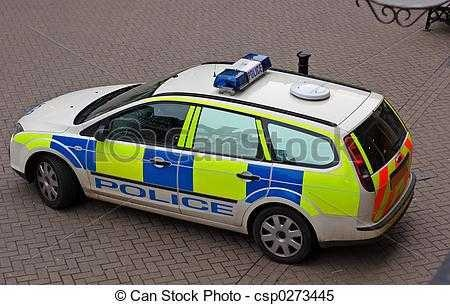Police Car: (13, 51, 424, 233)
